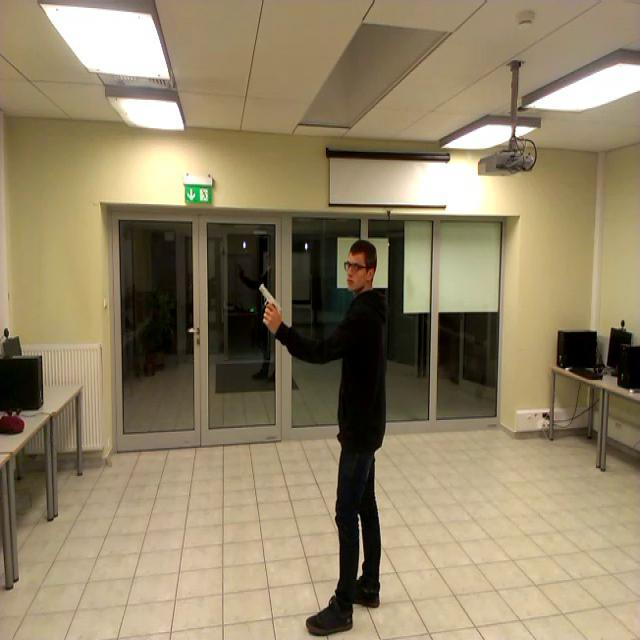Gun: (260, 282, 282, 321)
